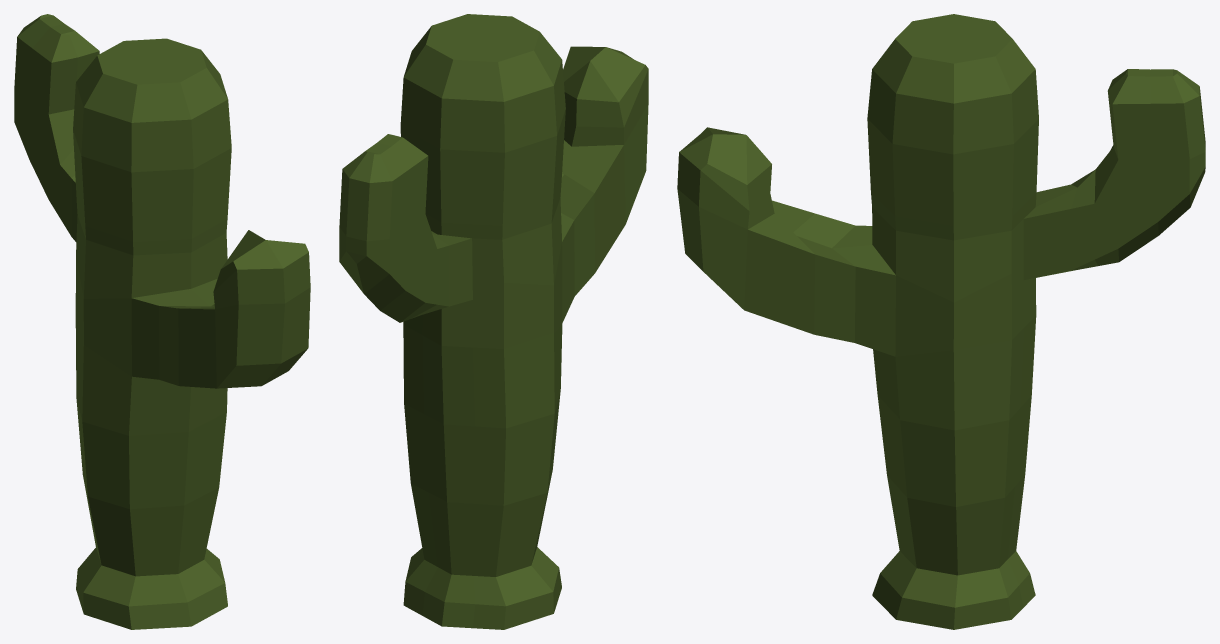
Rendered from cactus.fbx.
3 views of the same model, side by side, from view 1: azimuth 30°, elevation 25°; view 2: azimuth 150°, elevation 25°; view 3: azimuth 270°, elevation 25° (orthographic). The views are drawn at different scales.
Parts seen in each view (by area): view 1: Cactus; view 2: Cactus; view 3: Cactus.
Boxes of the visible parts, box(x1,y1,x2,y2) form: Cactus: box(14, 14, 310, 629); Cactus: box(339, 14, 648, 629); Cactus: box(677, 14, 1205, 629).
Bounding box in the file's own units: 118 × 426 × 367.
